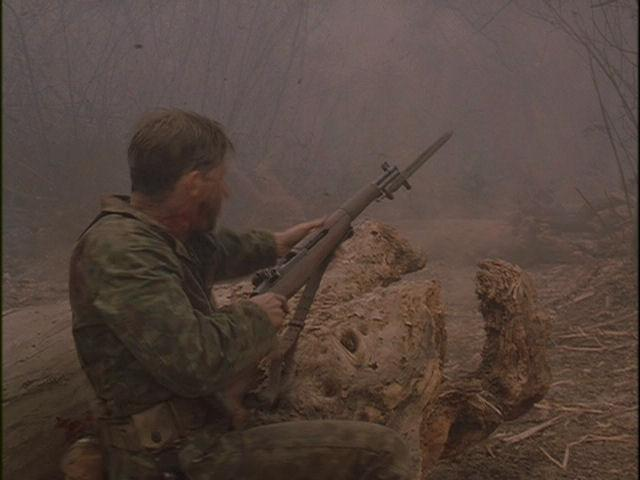gun: (231, 111, 470, 383)
